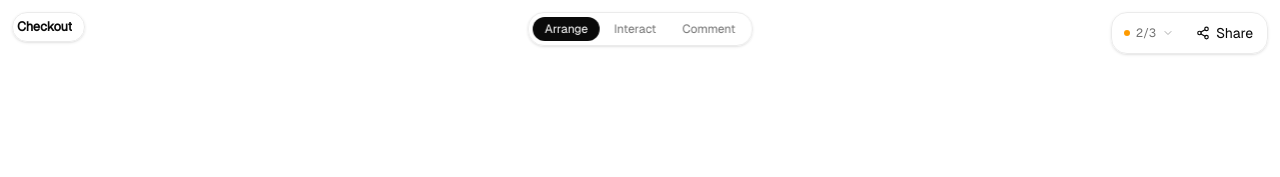
Scenario: PrototypeChrome › shows named missing screens once the coverage badge is opened
This screenshot has width=1280, height=177.
Click the button named "flow coverage".
click(1149, 33)  # box [1116,21,1182,45]
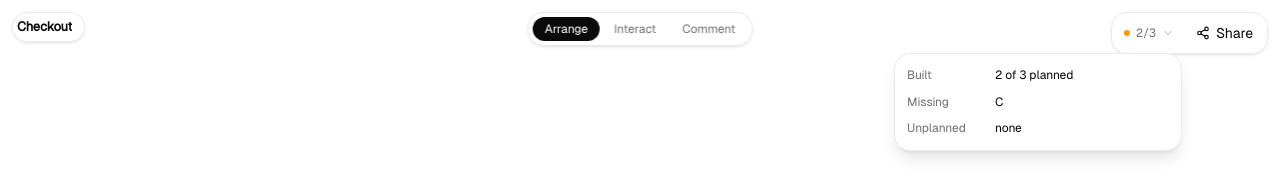
Check: the text "C" is shown, box [995,95,1003,109]
